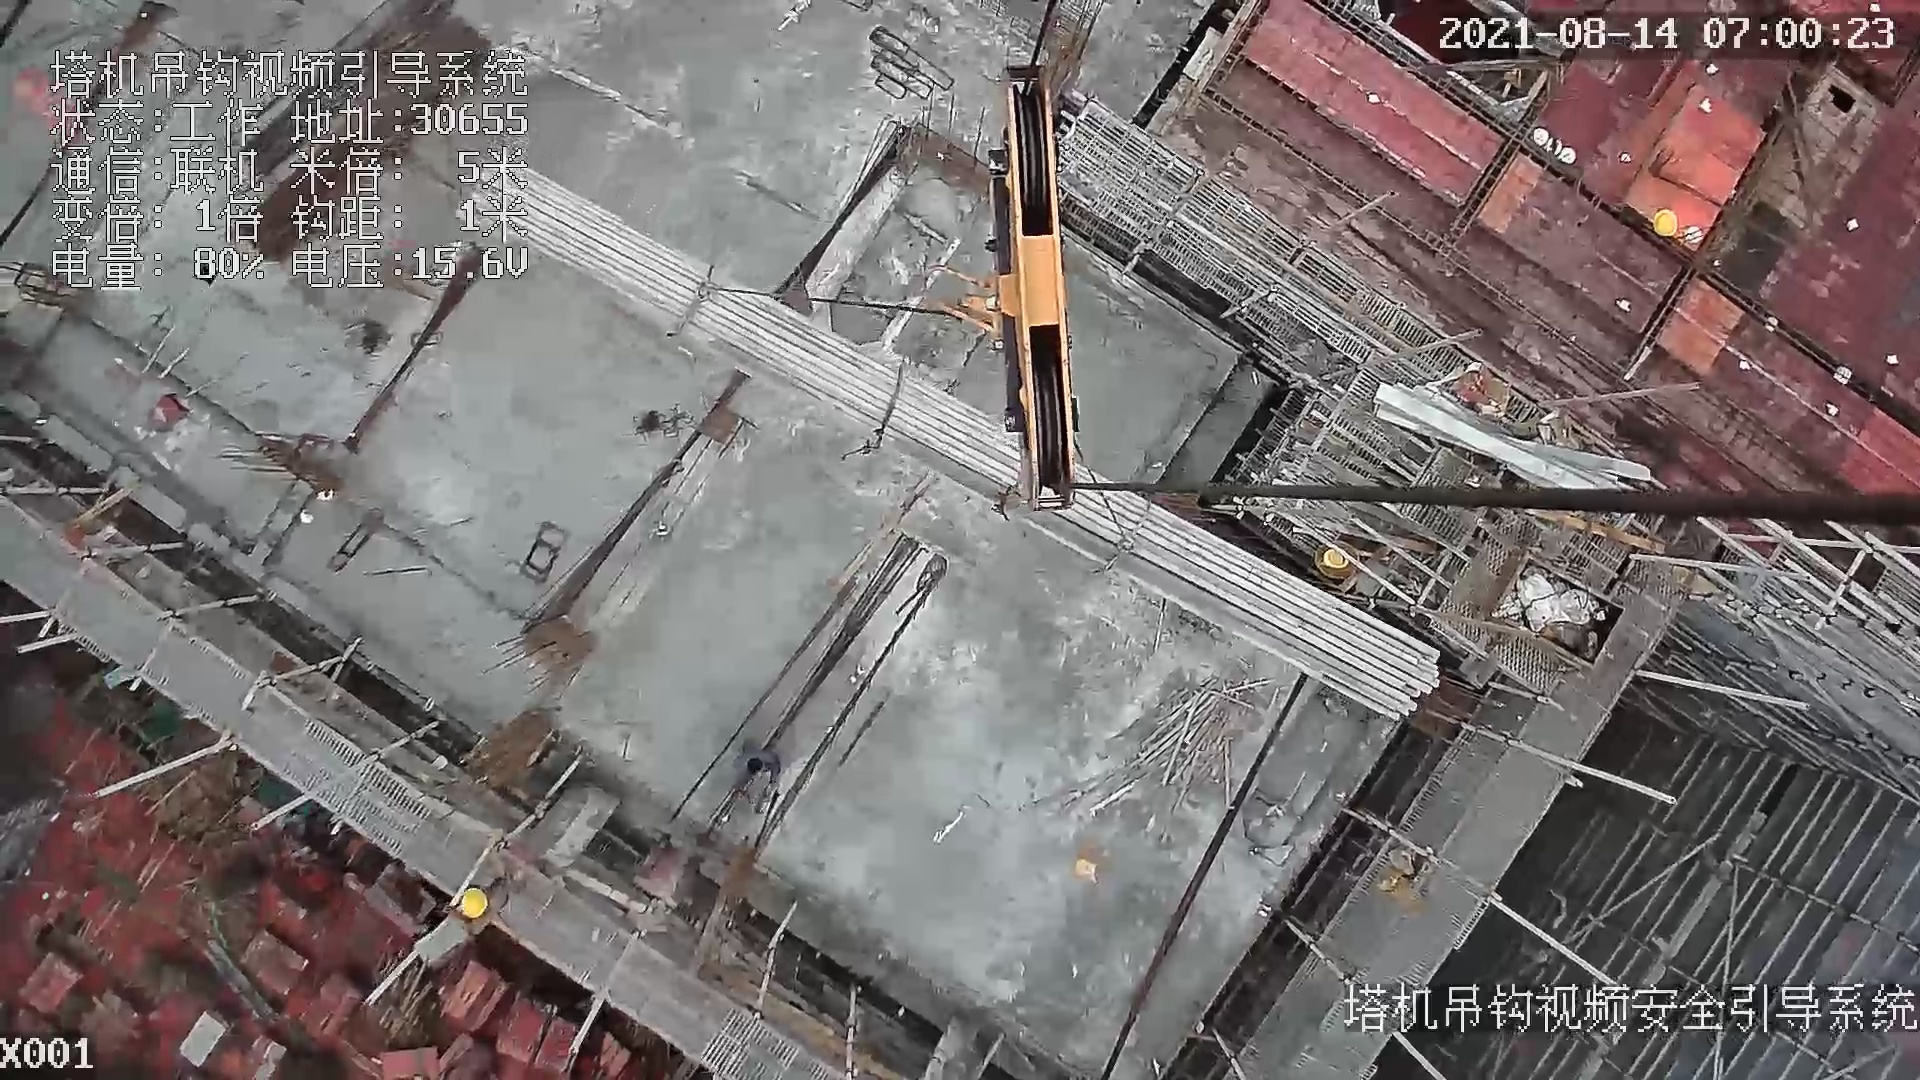helmet: (460, 888, 488, 919), (1654, 208, 1677, 238), (1324, 548, 1349, 568)
hook: (959, 59, 1100, 514)
person: (445, 868, 523, 935), (729, 736, 785, 812)
rebar: (529, 162, 1444, 720)
